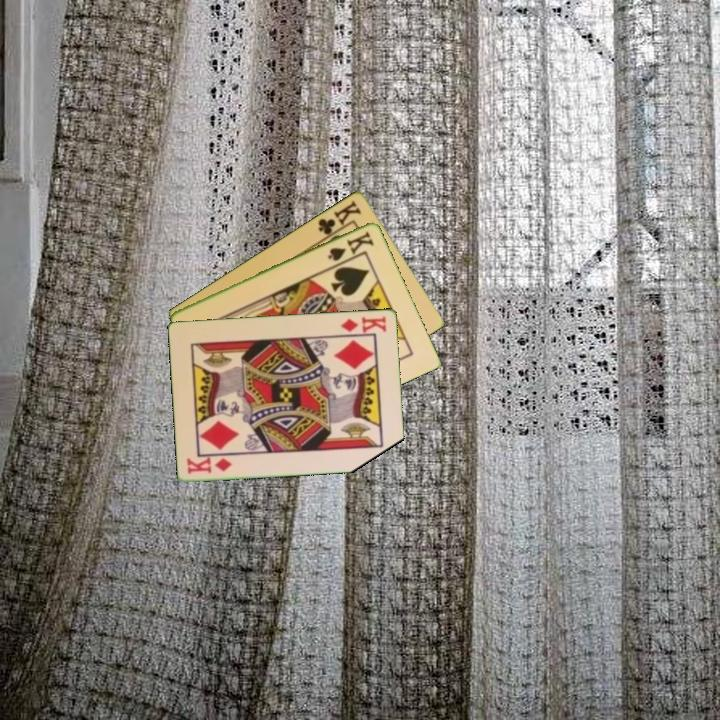Kc: (314, 196, 364, 242)
Kd: (338, 312, 390, 335), (184, 454, 235, 476)
Ks: (324, 227, 377, 264)
